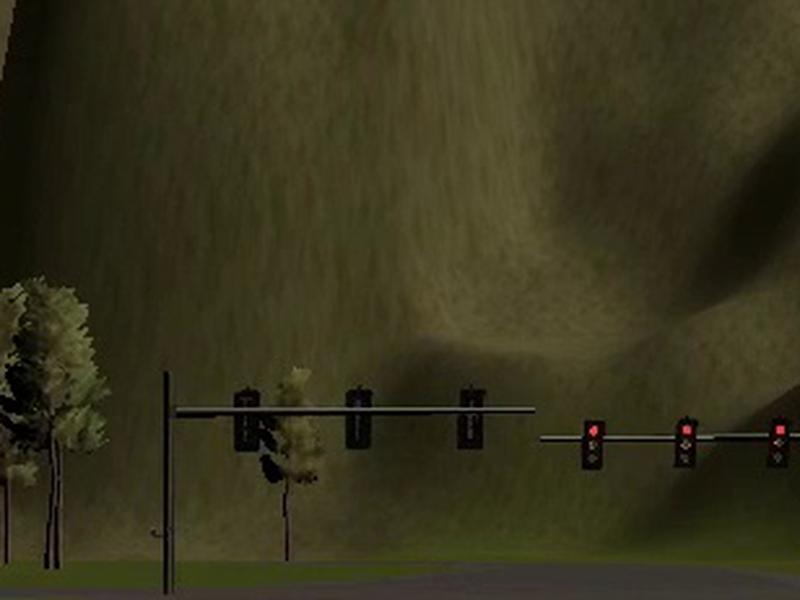Red: (767, 418, 792, 470), (675, 417, 699, 469), (582, 419, 605, 470)
